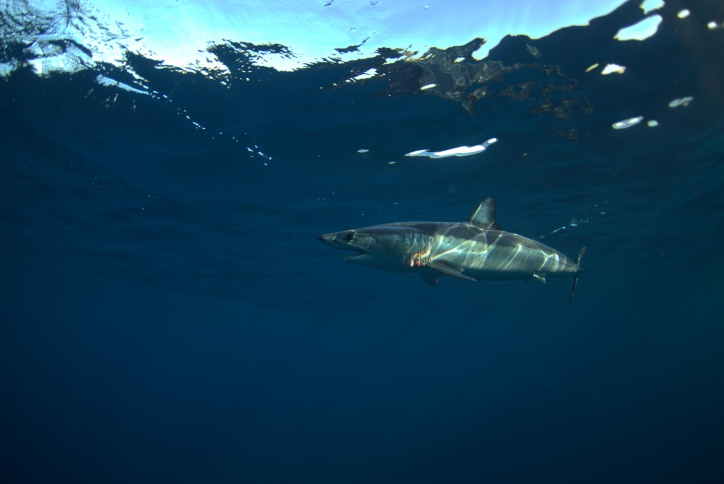Mako: (306, 193, 614, 331)
